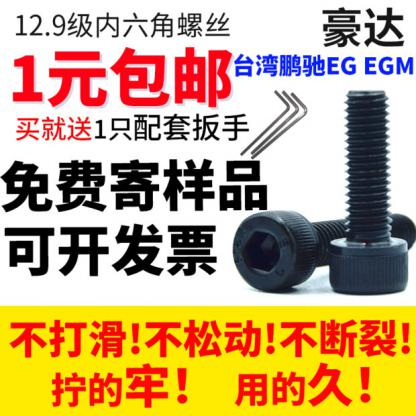FOD: (327, 88, 410, 295), (230, 204, 416, 296)
